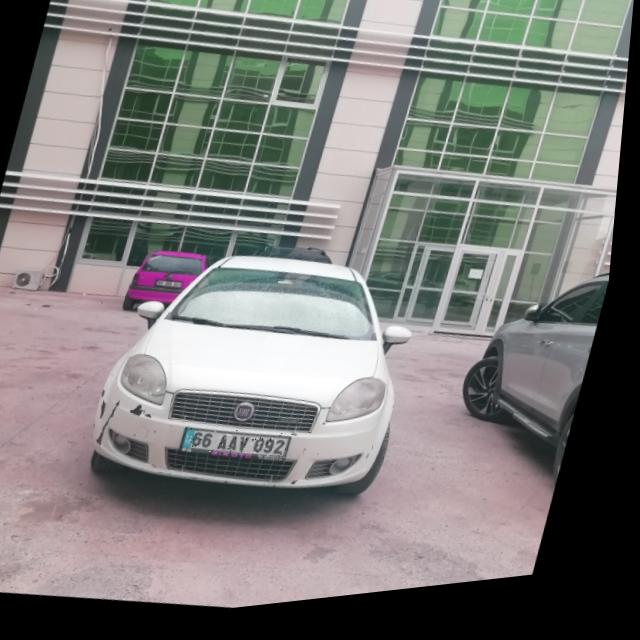license_plate: (189, 423, 301, 474)
